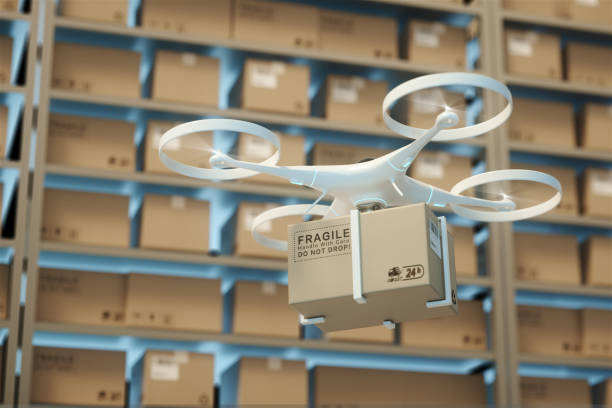Drone: (151, 66, 567, 250)
